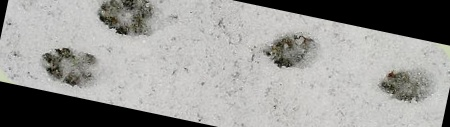rabbit: (21, 32, 116, 102), (246, 19, 336, 89), (83, 0, 177, 58)
